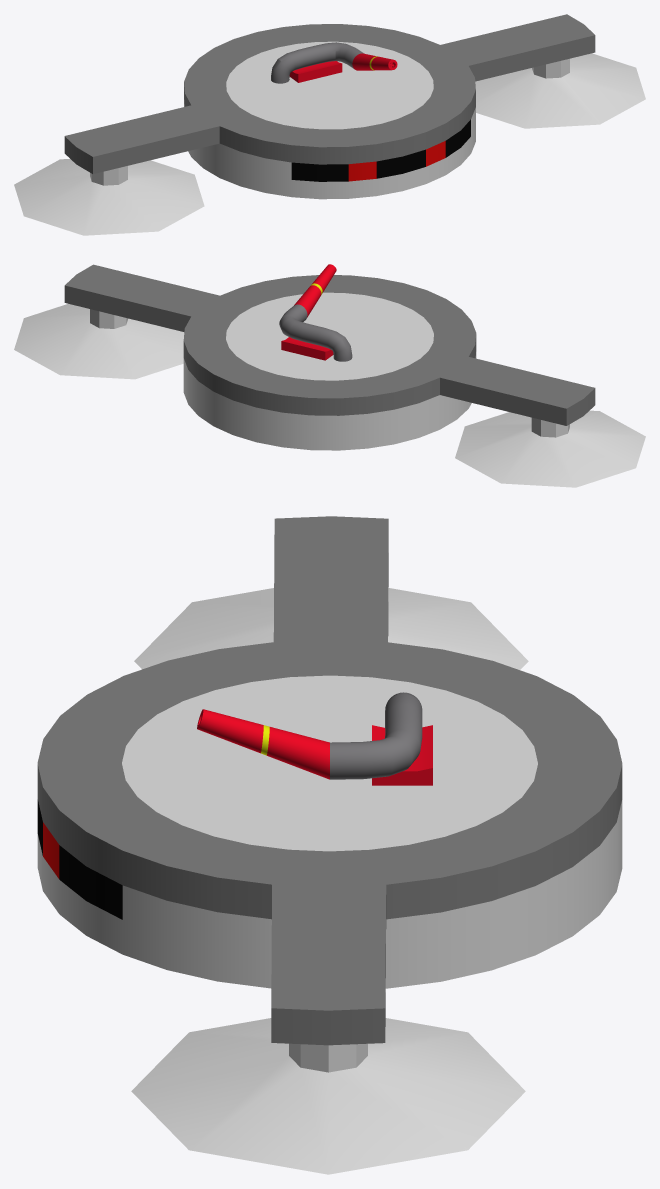
Rendered from CleaningRobot.fbx.
3 renders of one model, top to bottom at view 1: azimuth 30°, elevation 25°; view 2: azimuth 150°, elevation 25°; view 3: azimuth 270°, elevation 25°, orthographic. The views are drawn at different scales.
Visible parts, largest first — view 1: CleaningMachine, CleaningRobotEnemy, SprayGun; view 2: CleaningMachine, CleaningRobotEnemy, SprayGun; view 3: CleaningMachine, CleaningRobotEnemy, SprayGun.
Boxes of the visible parts, x1=… form: CleaningMachine: x1=14, y1=14, x2=645, y2=235; CleaningRobotEnemy: x1=184, y1=41, x2=475, y2=199; SprayGun: x1=271, y1=42, x2=397, y2=83; CleaningMachine: x1=14, y1=264, x2=645, y2=487; CleaningRobotEnemy: x1=183, y1=292, x2=476, y2=450; SprayGun: x1=279, y1=264, x2=352, y2=361; CleaningMachine: x1=37, y1=516, x2=622, y2=1174; CleaningRobotEnemy: x1=37, y1=675, x2=622, y2=988; SprayGun: x1=197, y1=692, x2=432, y2=785.
Bounding box in the file's own units: 483 × 75.21 × 200.
